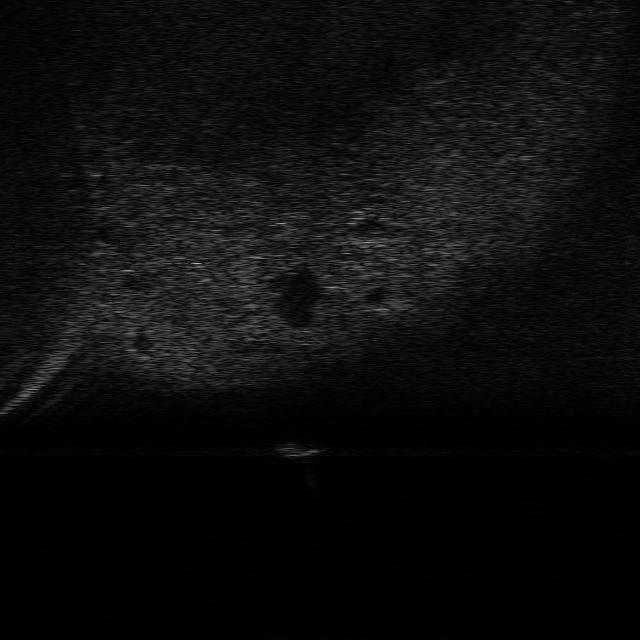cube: (279, 436, 321, 459)
